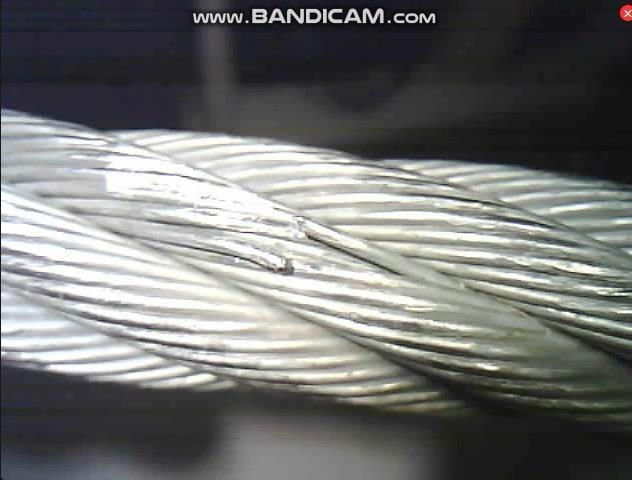break: (257, 205, 326, 278)
